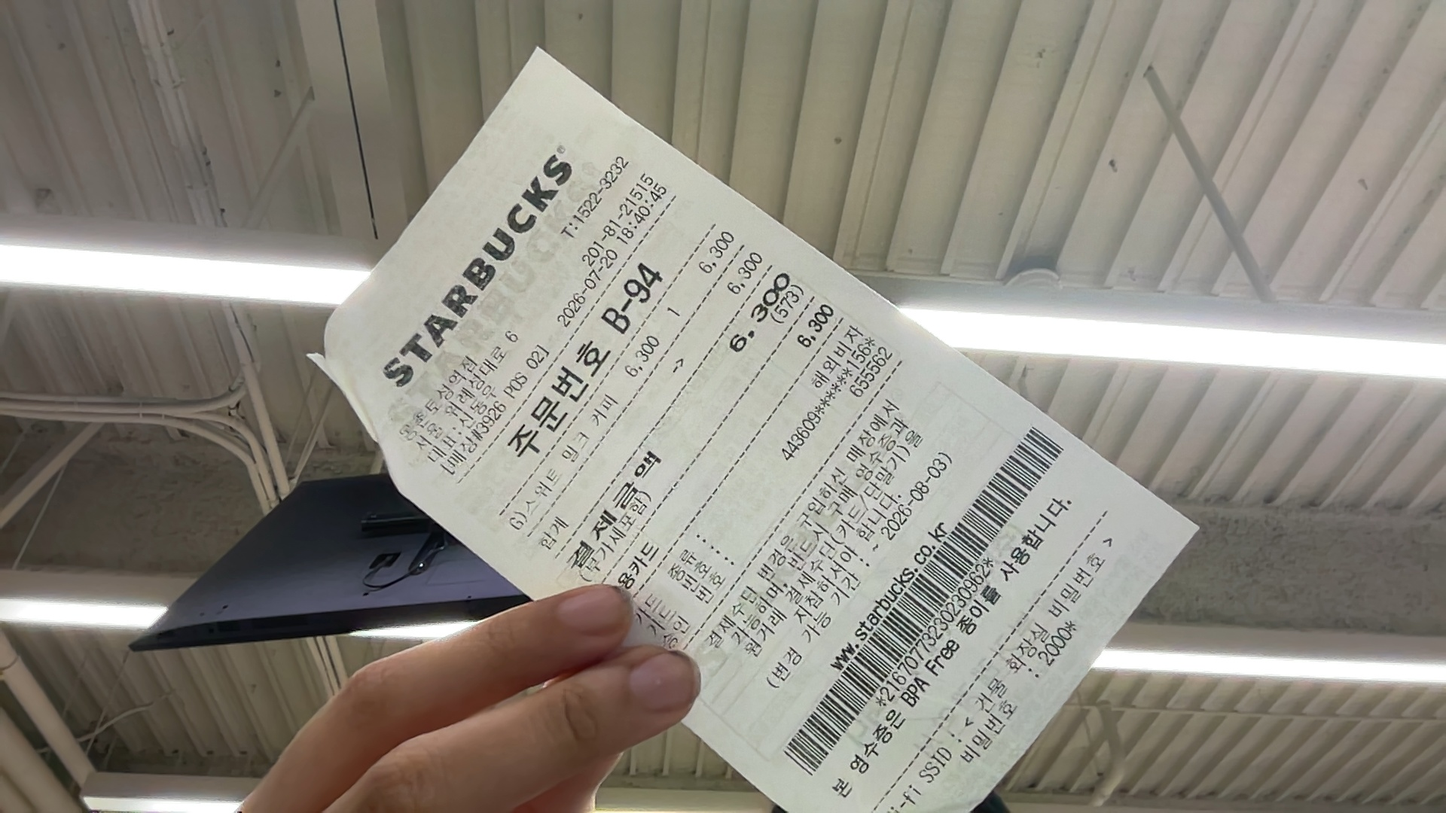Paper: (299, 33, 1238, 813)
